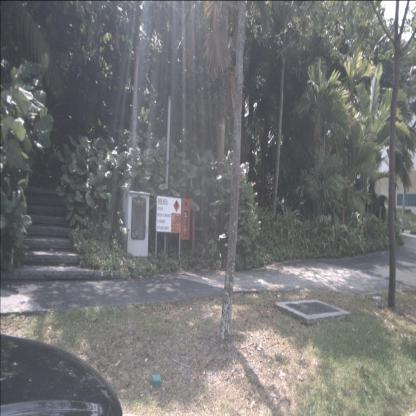vehicle-car: (0, 241, 123, 416)
